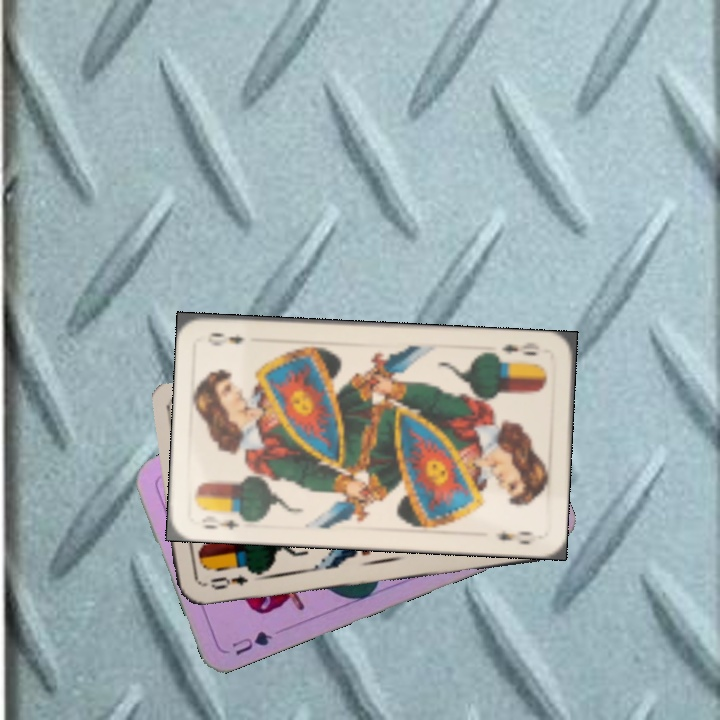EO: (200, 508, 251, 532), (205, 570, 251, 593), (497, 340, 540, 359)
GU: (228, 627, 275, 658)
